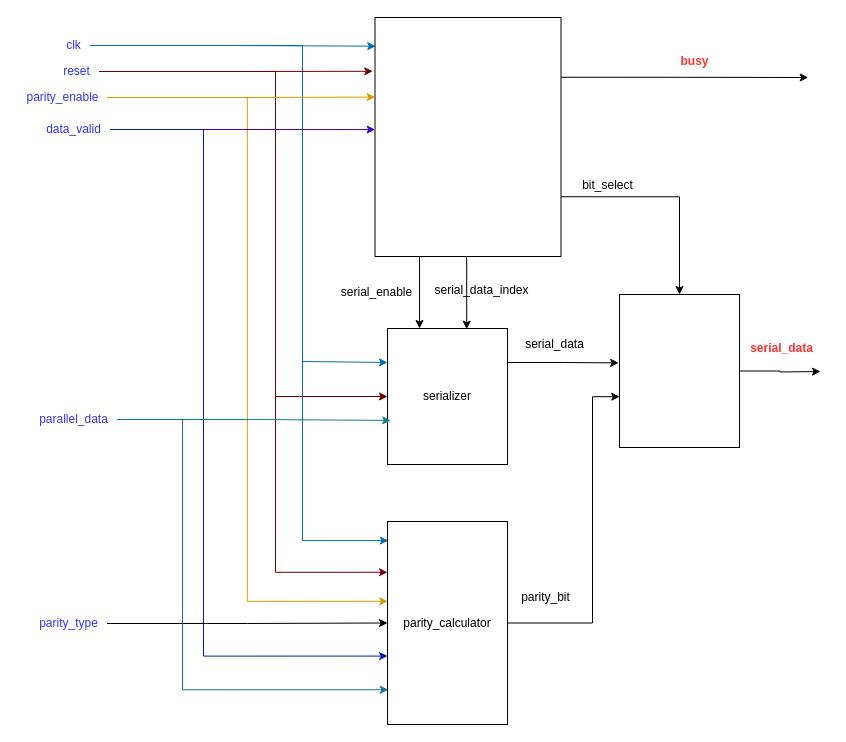
This 846x742 diagram has some shape labels left out. The centre of each missing label's shape, as x and y in pixels:
"output_multiplexer" goes at [679,371].
"UART_transmitter_FSM" goes at [467,136].
